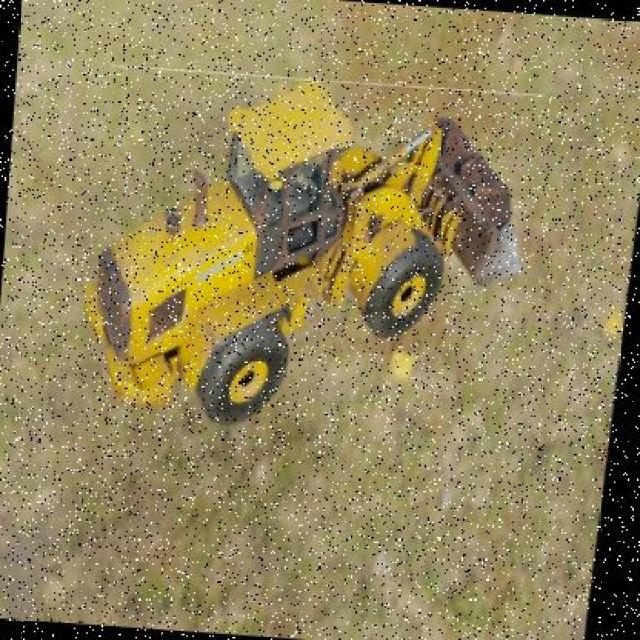buldozerpayloadergrader: (71, 58, 540, 453)
